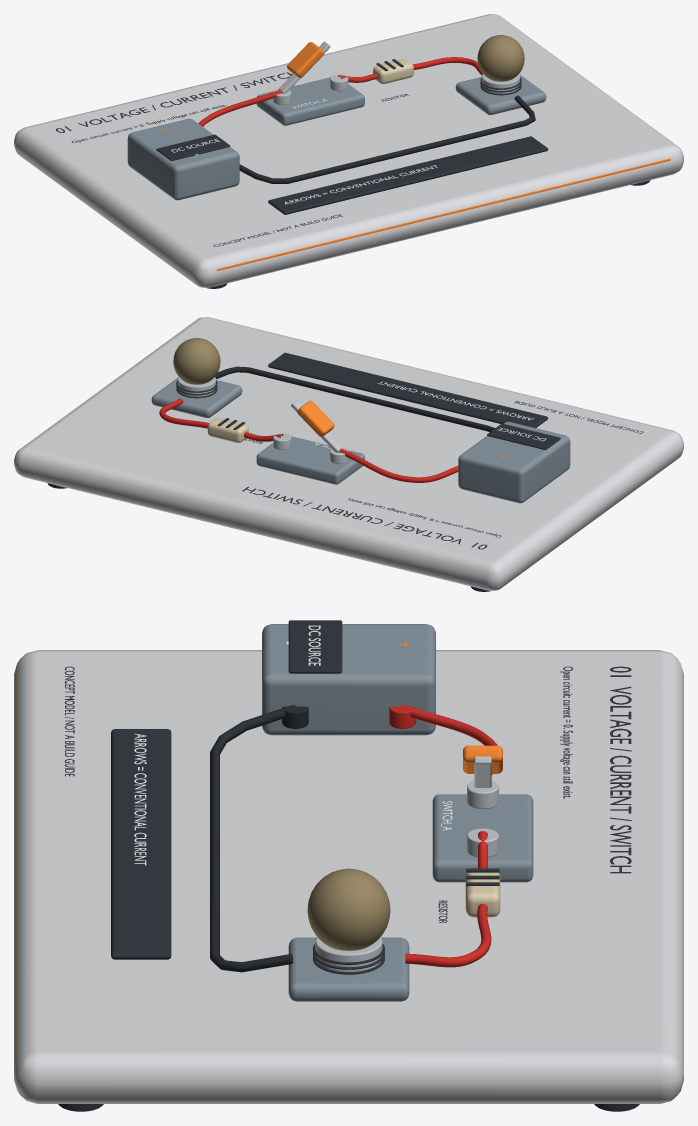
File: circuit_01_voltage_current_switch.glb
The picture shows the model from 3 angles, top to bottom: view 1: azimuth 30°, elevation 25°; view 2: azimuth 150°, elevation 25°; view 3: azimuth 270°, elevation 25°; orthographic projection. The views are drawn at different scales.
Visible parts, largest first — view 1: bench, power_supply, current_note_panel, switch_A_base, return_wire, lamp_diffuser, lamp_base, orange_edge, power_label_panel, switch_A_handle, title, resistor_body (+3 smaller); view 2: bench, power_supply, current_note_panel, switch_A_base, return_wire, lamp_diffuser, lamp_base, power_label_panel, positive_to_switch, switch_A_handle, title, resistor_body (+2 smaller); view 3: bench, power_supply, current_note_panel, switch_A_base, lamp_diffuser, lamp_base, return_wire, power_label_panel, title, resistor_to_lamp, resistor_body, lamp_socket (+6 smaller).
Boxes of the visible parts, bbox=[...] form: bench: bbox=[14, 14, 683, 287]; power_supply: bbox=[127, 118, 239, 200]; current_note_panel: bbox=[268, 136, 548, 214]; switch_A_base: bbox=[256, 77, 364, 125]; return_wire: bbox=[239, 95, 535, 183]; lamp_diffuser: bbox=[477, 35, 524, 81]; lamp_base: bbox=[455, 74, 546, 114]; orange_edge: bbox=[216, 158, 670, 270]; power_label_panel: bbox=[156, 134, 229, 160]; switch_A_handle: bbox=[287, 42, 324, 77]; title: bbox=[56, 72, 292, 132]; resistor_body: bbox=[373, 59, 413, 83]; bench: bbox=[14, 317, 683, 590]; power_supply: bbox=[458, 421, 570, 503]; current_note_panel: bbox=[268, 352, 548, 427]; switch_A_base: bbox=[256, 436, 364, 484]; return_wire: bbox=[215, 366, 494, 432]; lamp_diffuser: bbox=[173, 338, 220, 384]; lamp_base: bbox=[151, 377, 242, 417]; power_label_panel: bbox=[487, 423, 560, 449]; positive_to_switch: bbox=[339, 448, 458, 482]; switch_A_handle: bbox=[297, 400, 334, 436]; title: bbox=[242, 487, 487, 549]; resistor_body: bbox=[207, 418, 248, 442]; bench: bbox=[14, 650, 683, 1103]; power_supply: bbox=[262, 624, 435, 735]; current_note_panel: bbox=[111, 729, 171, 959]; switch_A_base: bbox=[432, 794, 533, 882]; lamp_diffuser: bbox=[307, 868, 390, 950]; lamp_base: bbox=[288, 937, 409, 1001]; return_wire: bbox=[210, 705, 296, 972]; power_label_panel: bbox=[288, 620, 342, 673]; title: bbox=[610, 666, 631, 873]; resistor_to_lamp: bbox=[405, 903, 491, 967]; resistor_body: bbox=[465, 872, 500, 917]; lamp_socket: bbox=[315, 937, 382, 974].
Size of what is drawn, in the model's own units: 7.4 by 1.47 by 5.
